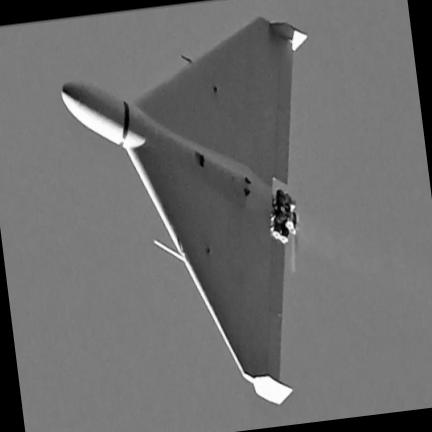Shahed: (60, 17, 306, 404)
